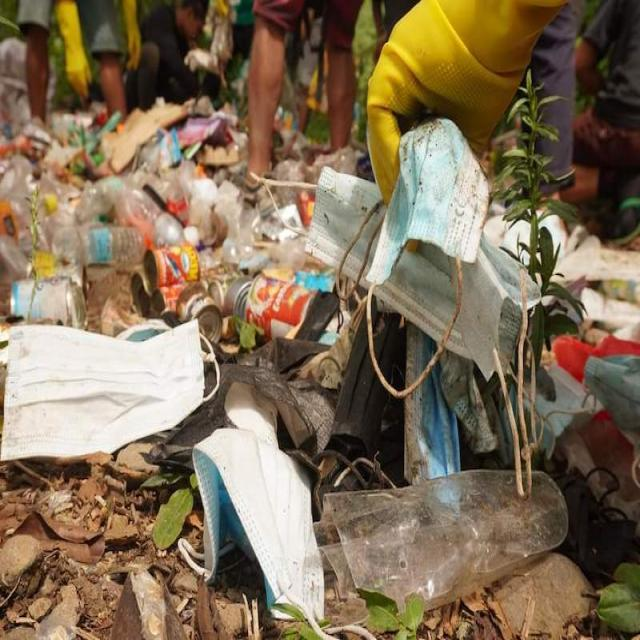face mask: (298, 143, 537, 382), (0, 310, 221, 480), (182, 421, 348, 640)
